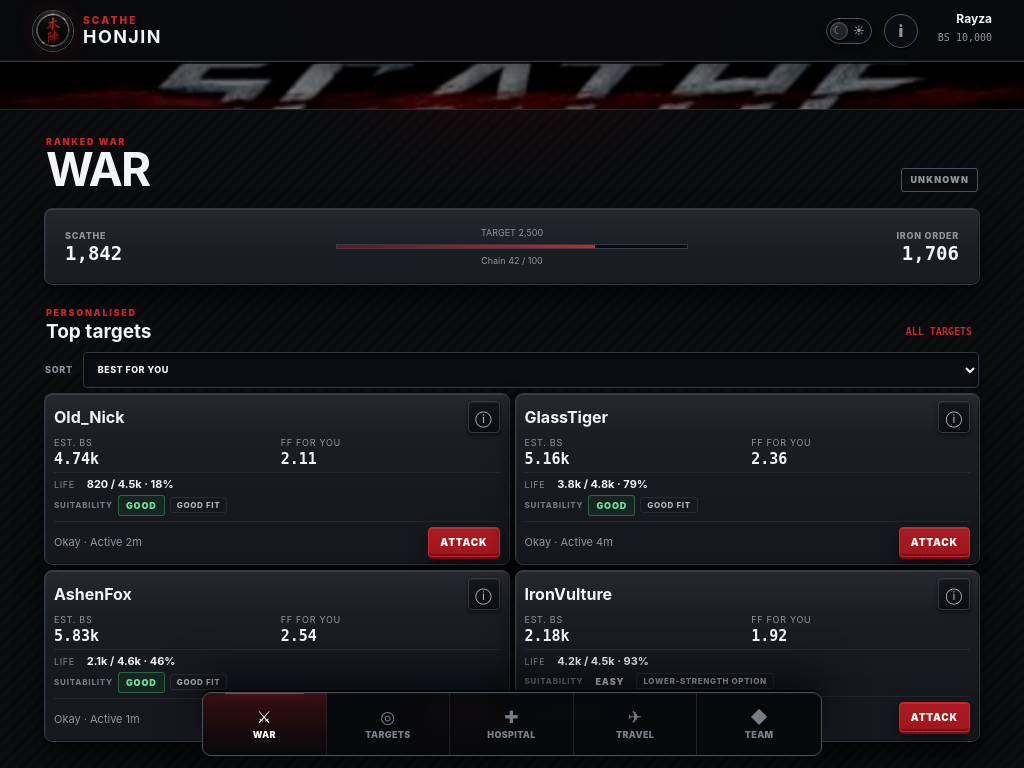
Scenario: live Hospital shell › shows hospital reasons outside war without exposing a WATCH control
Click the button "✚ HOSPITAL": (512, 724) [450,693,574,755]
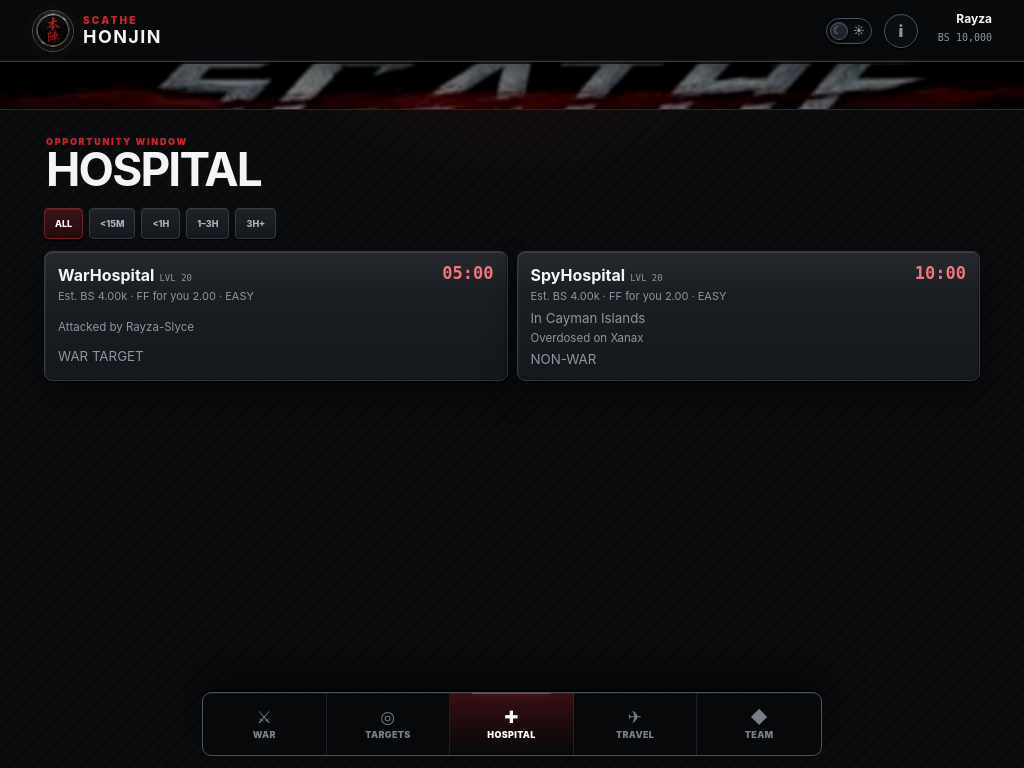
Expected: the text "WarHospital" is shown, [58,265,154,285]
Click the button with aria-label "Player details for WarHospital": (125, 275) [58,265,192,285]
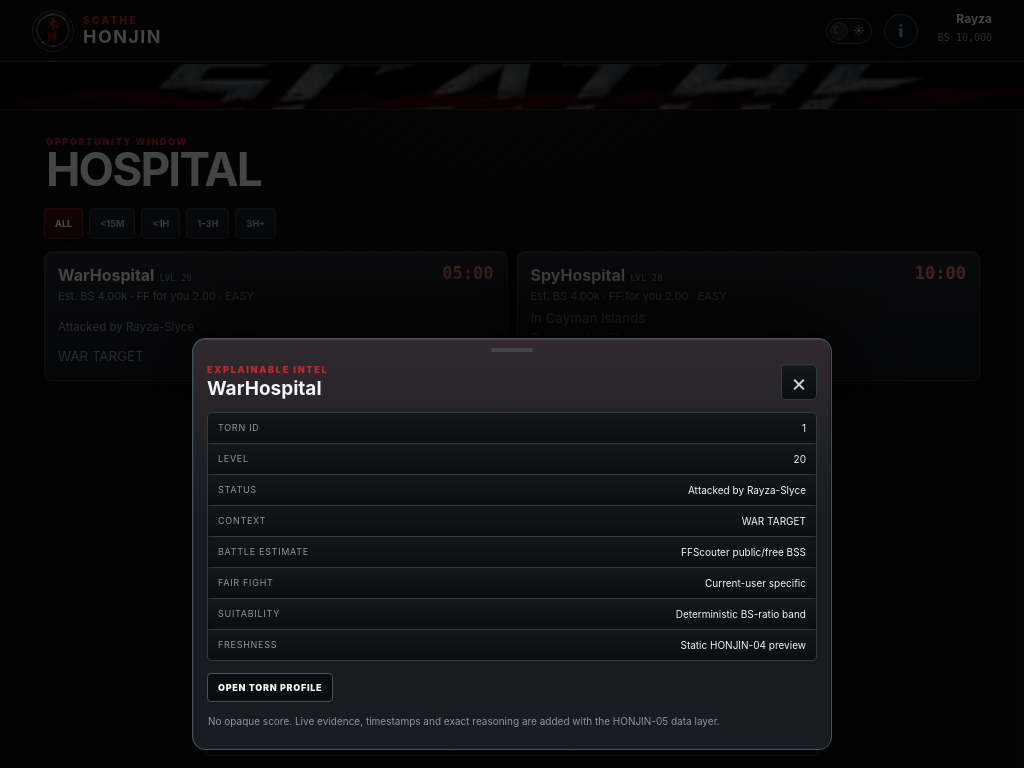
Expected: the text "SpyHospital" is shown, [530,265,625,285]
Expected: the text "Attacked by Rayza-Slyce" is shown 2 times, [58,320,194,334]; [688,484,806,496]
Expected: the dialog named "Intel for WarHospital" is shown, [192,338,832,750]
